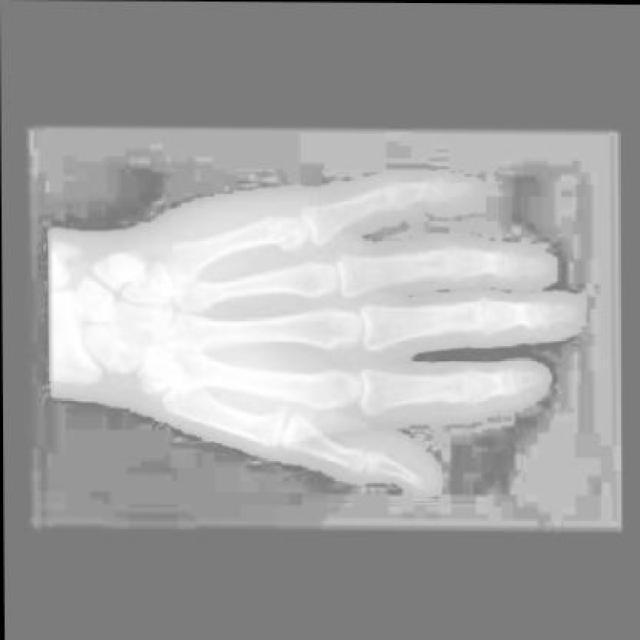Fracture: (261, 206, 302, 251)
